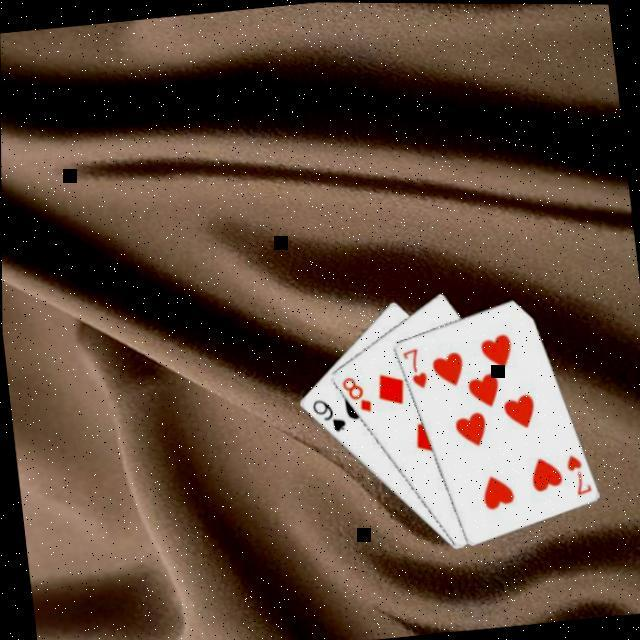7H: (396, 343, 429, 393), (560, 449, 593, 499)
8D: (336, 372, 374, 417)
9S: (306, 393, 348, 437)
